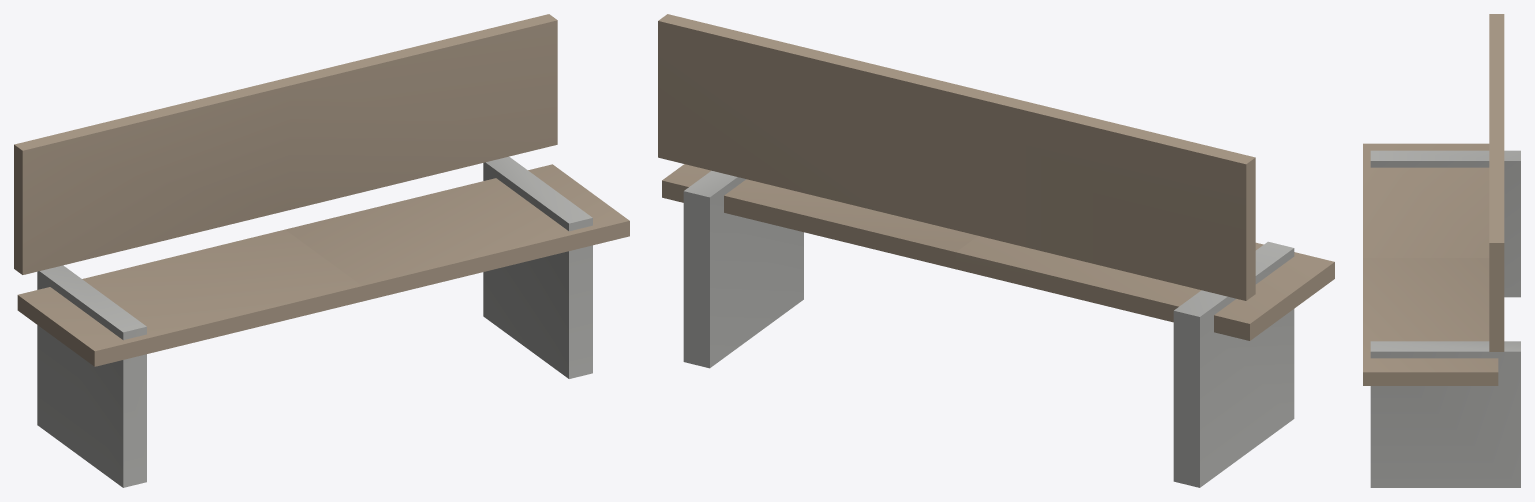
The model's file is banco_praca.glb.
3 views of the same model, side by side, from view 1: azimuth 30°, elevation 25°; view 2: azimuth 150°, elevation 25°; view 3: azimuth 270°, elevation 25° (orthographic). The views are drawn at different scales.
Visible parts, largest first — view 1: banco; view 2: banco; view 3: banco.
Part boxes in pixels (box(x1,y1,x2,y2)): banco: box(14, 14, 629, 487); banco: box(658, 14, 1334, 487); banco: box(1363, 14, 1520, 487).
Size of what is drawn, in the model's own units: 1.8 by 0.95 by 0.525.
